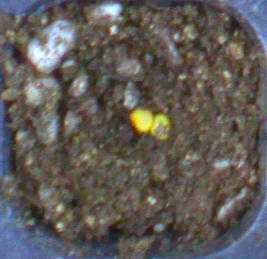chilli seed: (129, 109, 151, 132), (151, 114, 170, 140)
